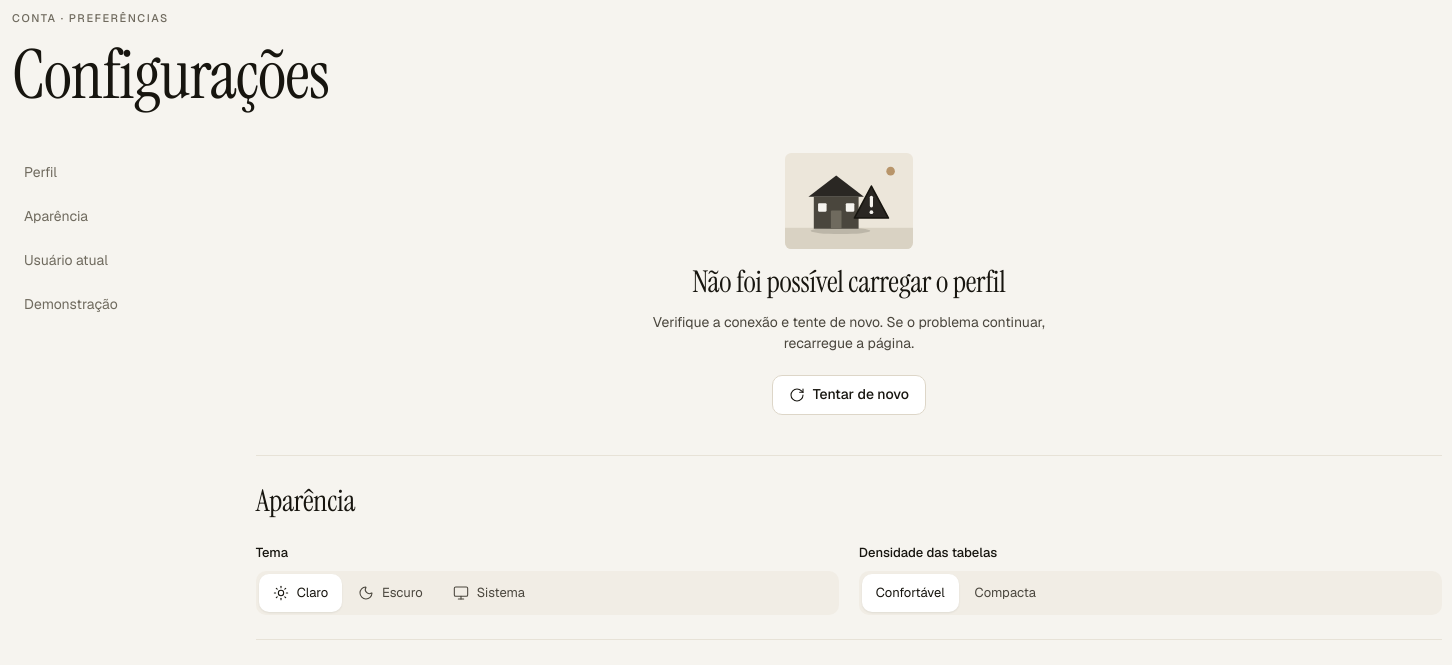
TelaConfiguracoes › mostra erro com taxa de erro 1 e recupera em Tentar de novo
Click the button "Tentar de novo" at {"x": 849, "y": 395}, box [772, 375, 926, 415]
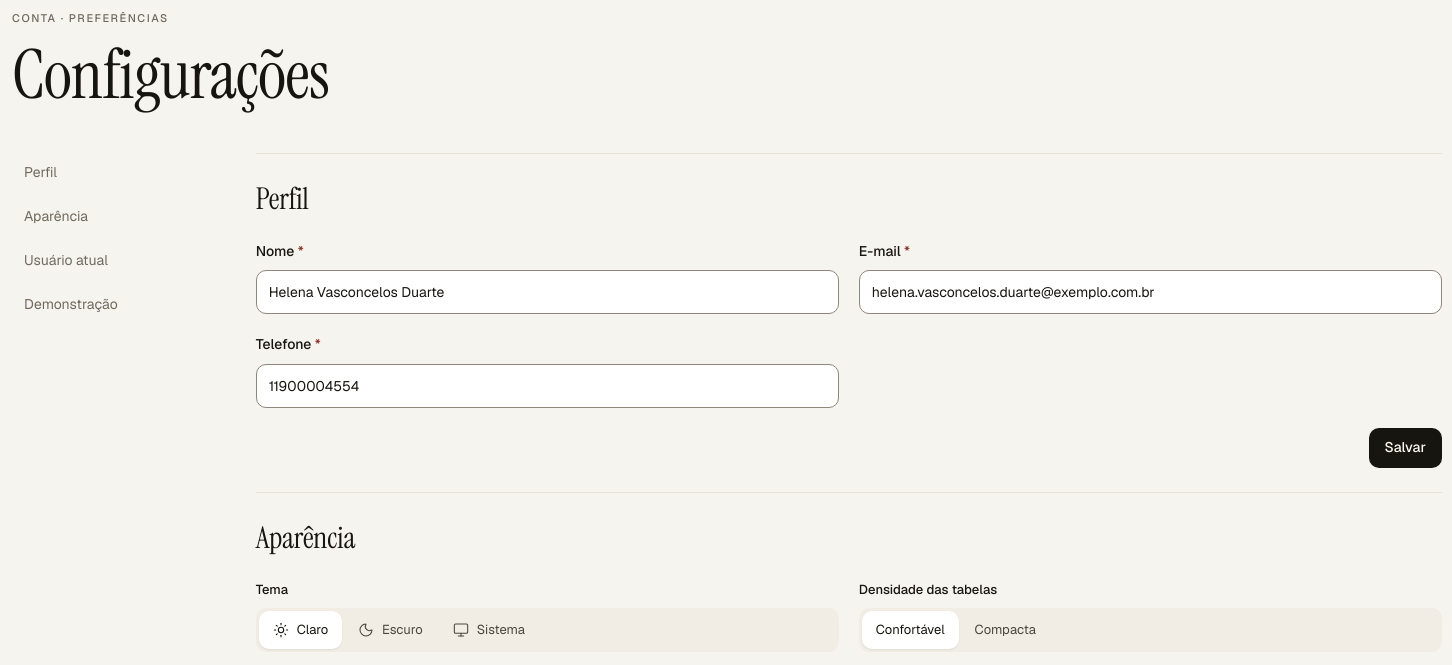
Expected: the field labelled "Nome *" is shown, [269, 271, 826, 313]
